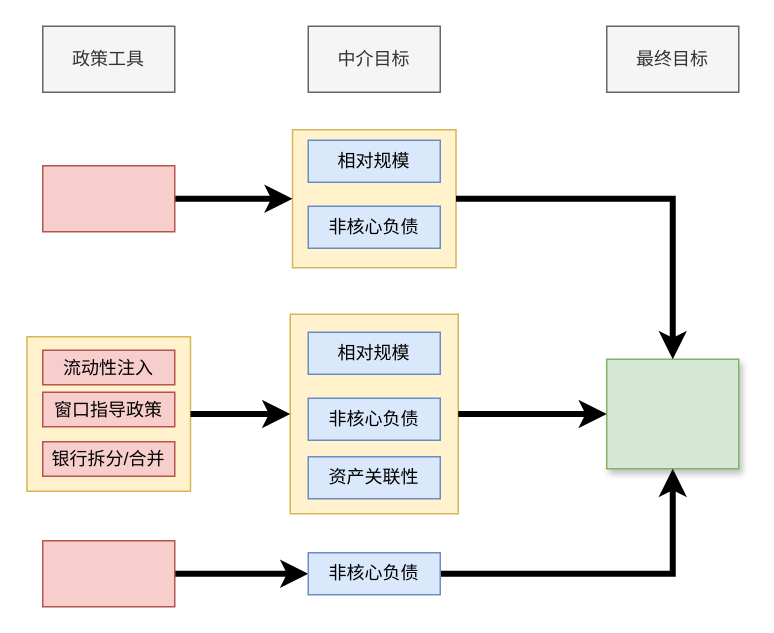
Image size: 774x633. Some labels were removed from this diagram. Each missing label, with the centre of its shape:
"信贷政策" belongs at (x=108, y=573).
"注资政策" belongs at (x=108, y=198).
"银行业 系统性风险 成因" belongs at (x=673, y=415).
